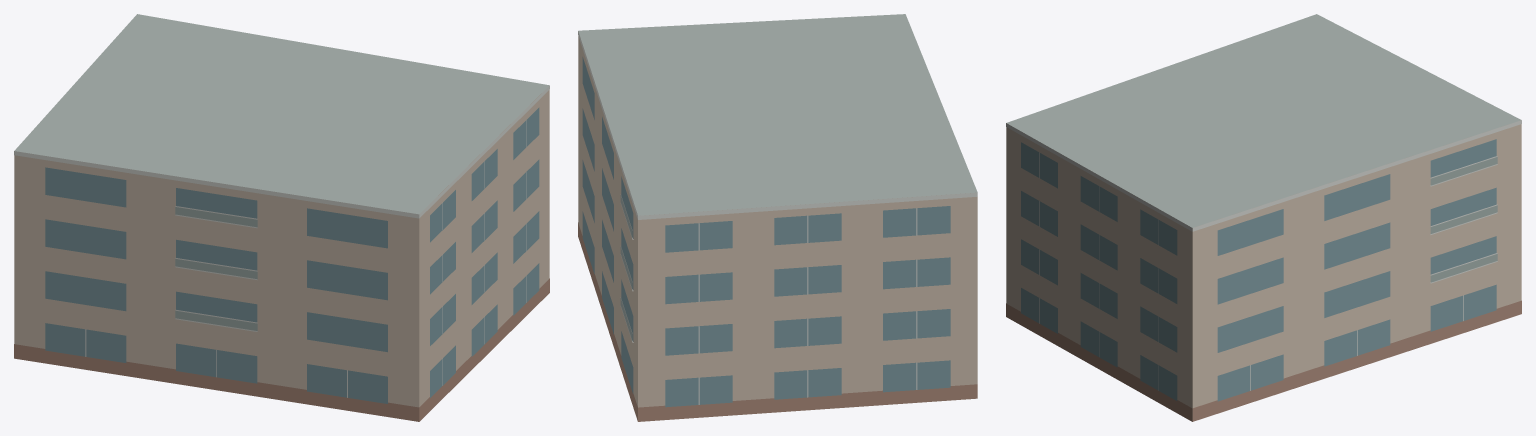
File: survey-upis-32683130.glb
3 renders of one model, left to right at view 1: azimuth 30°, elevation 25°; view 2: azimuth 150°, elevation 25°; view 3: azimuth 270°, elevation 25°, orthographic. The views are drawn at different scales.
Visible parts, largest first — view 1: survey-upis-32683130.tmp; view 2: survey-upis-32683130.tmp; view 3: survey-upis-32683130.tmp.
Boxes of the visible parts, x1,y1,x2,y2 form: survey-upis-32683130.tmp: (14, 14, 549, 421); survey-upis-32683130.tmp: (578, 14, 977, 421); survey-upis-32683130.tmp: (1006, 14, 1521, 421).
Bounding box in the file's own units: 28.63 × 12.1 × 29.16.
